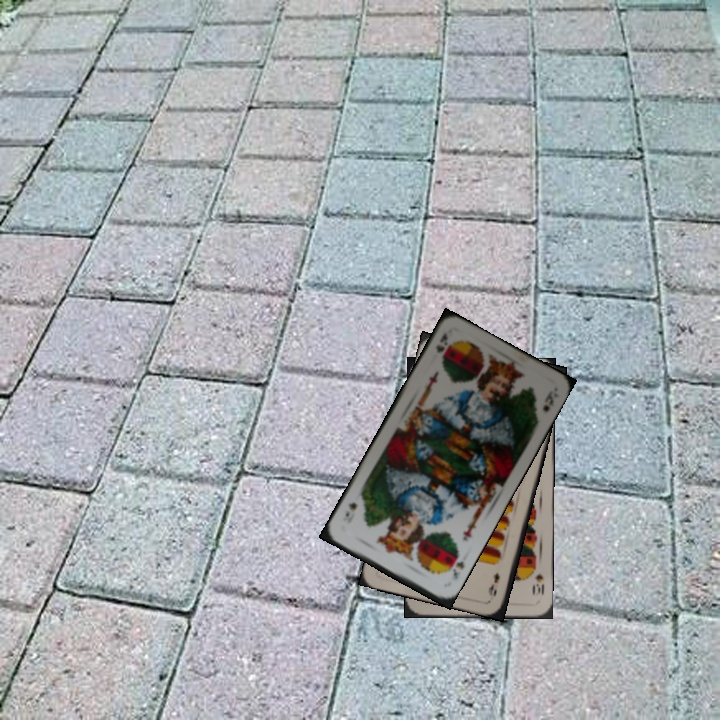E9: (485, 569, 502, 599)
S10: (529, 569, 546, 597)
SK: (442, 548, 467, 582), (432, 328, 452, 360)
